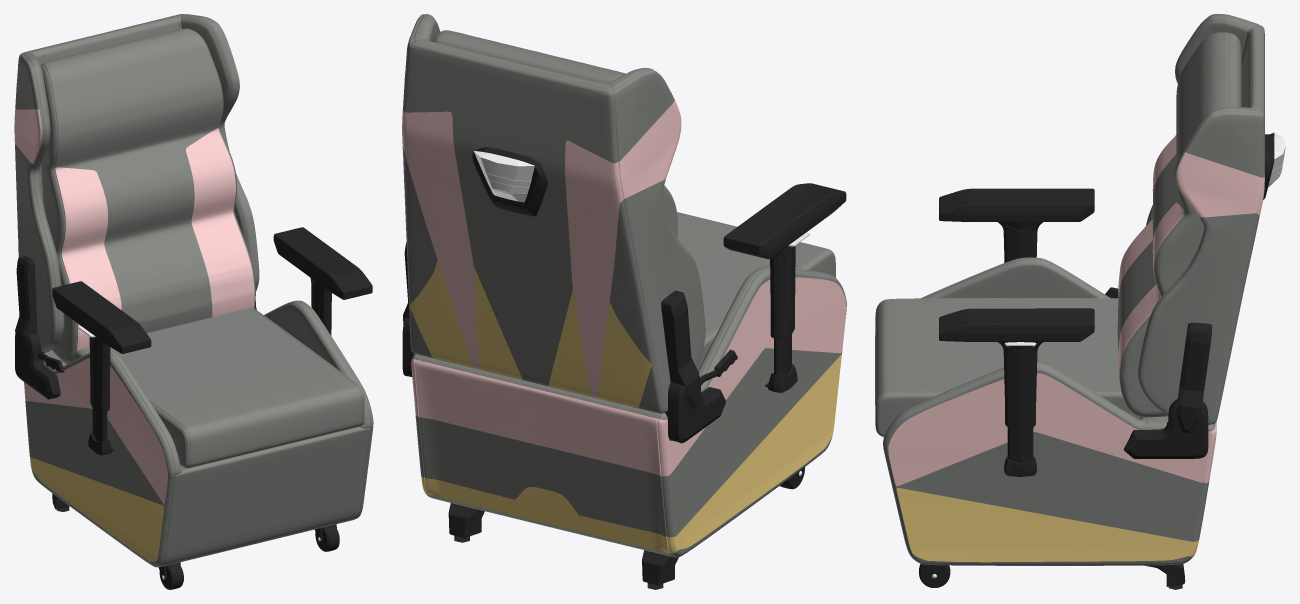
Rendered from sofa3.glb.
3 renders of one model, left to right at view 1: azimuth 30°, elevation 25°; view 2: azimuth 150°, elevation 25°; view 3: azimuth 270°, elevation 25°, orthographic. The views are drawn at different scales.
Visible parts, largest first — view 1: main, accent, armrest, accent1; view 2: main, accent, accent1, armrest, armrest1; view 3: main, armrest, accent, accent1, armrest1.
Boxes of the visible parts, x1=… form: main: x1=15, y1=14, x2=373, y2=567; accent: x1=14, y1=61, x2=254, y2=504; armrest: x1=15, y1=227, x2=372, y2=589; accent1: x1=30, y1=457, x2=164, y2=561; main: x1=402, y1=14, x2=846, y2=557; accent: x1=402, y1=100, x2=846, y2=476; accent1: x1=410, y1=260, x2=841, y2=553; armrest: x1=402, y1=183, x2=846, y2=589; armrest1: x1=472, y1=147, x2=809, y2=475; main: x1=875, y1=14, x2=1264, y2=565; armrest: x1=919, y1=188, x2=1211, y2=589; accent: x1=888, y1=135, x2=1264, y2=486; accent1: x1=896, y1=374, x2=1226, y2=562; armrest1: x1=932, y1=132, x2=1285, y2=578.
Size of the model in its own units: 0.081 by 0.1319 by 0.1019.
4 materials, 1 textured.
